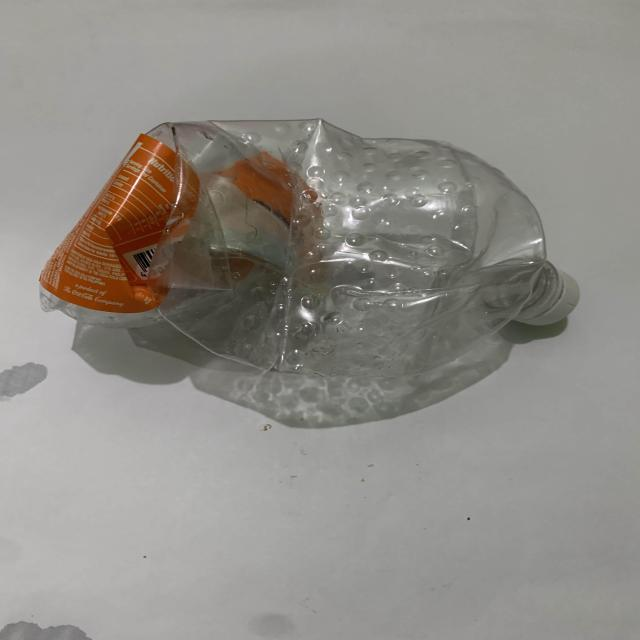bottle: (32, 113, 584, 384)
